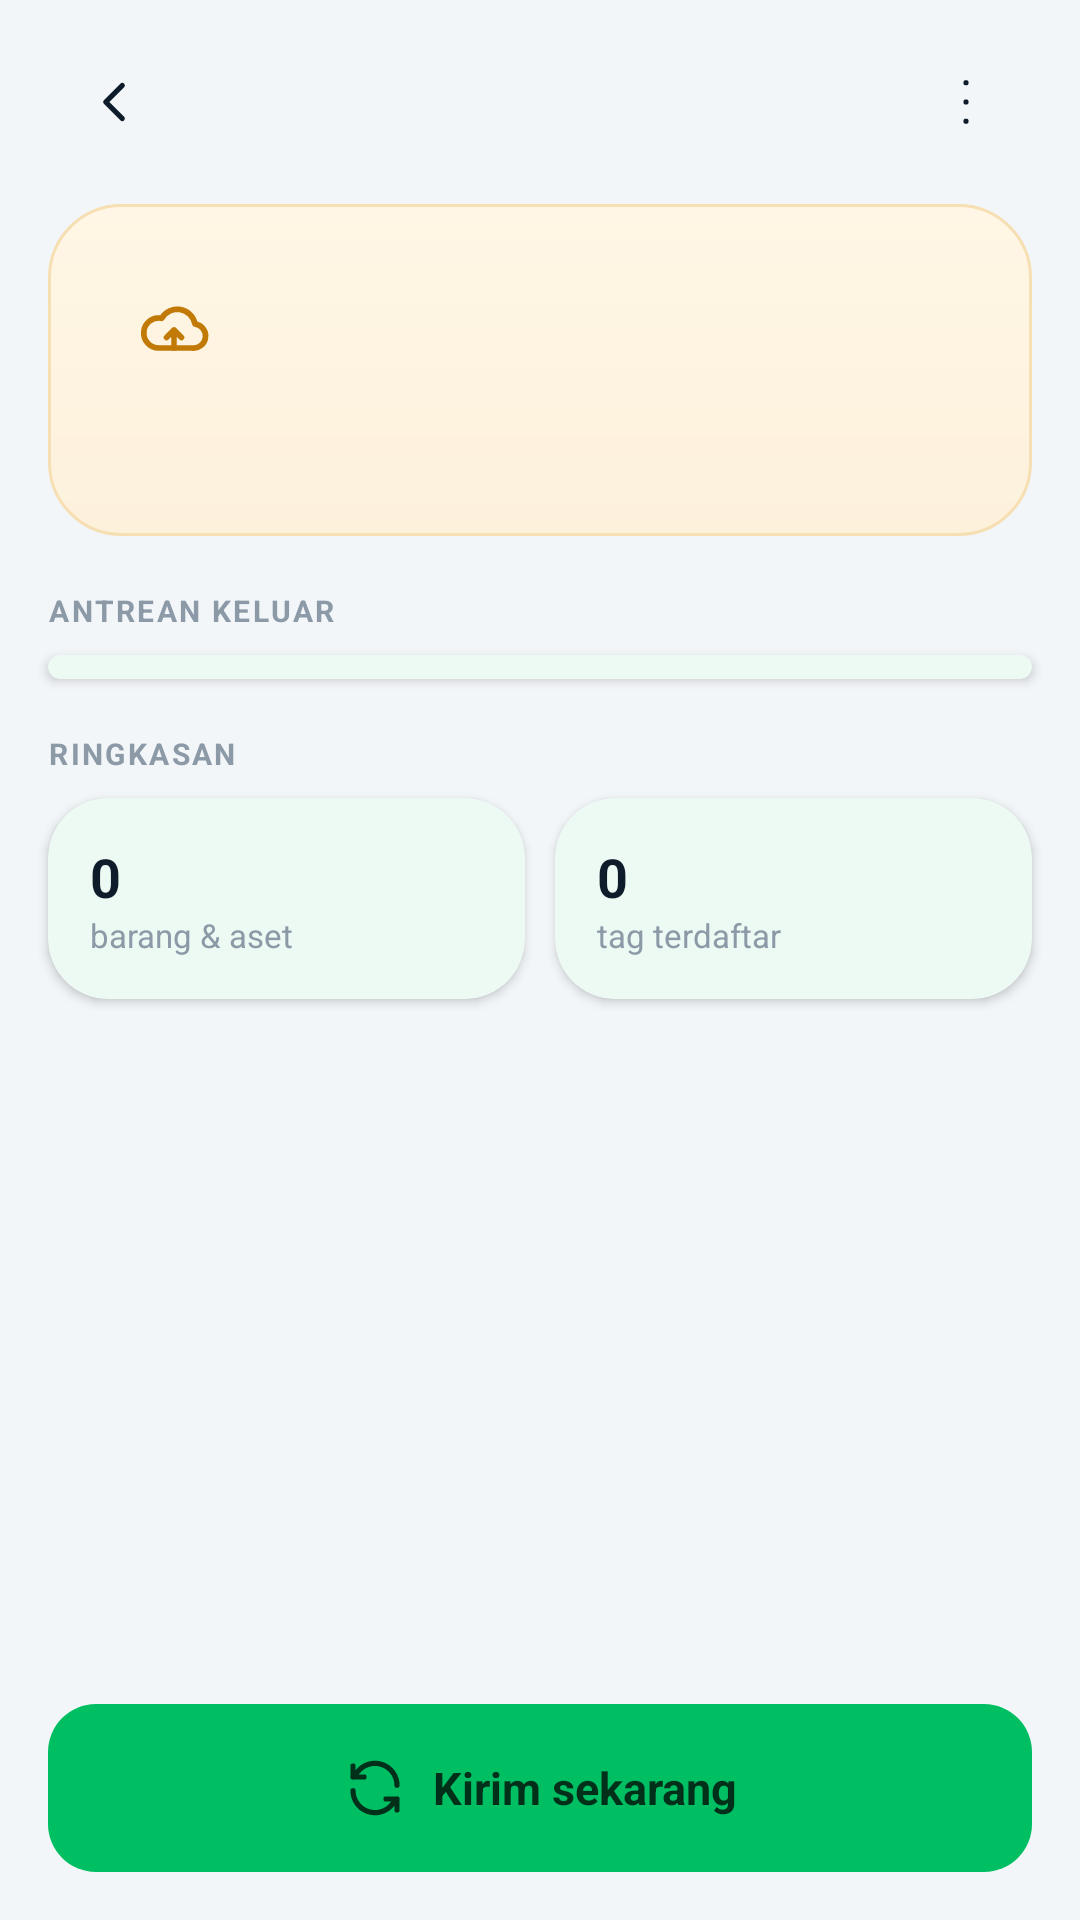

Icon bounding boxes for this 1080x1920 phone screenshot, format bbox=(x1, y1, x2, y2):
cloud up: bbox=(141, 306, 209, 351)
Kembali: bbox=(103, 82, 125, 122)
